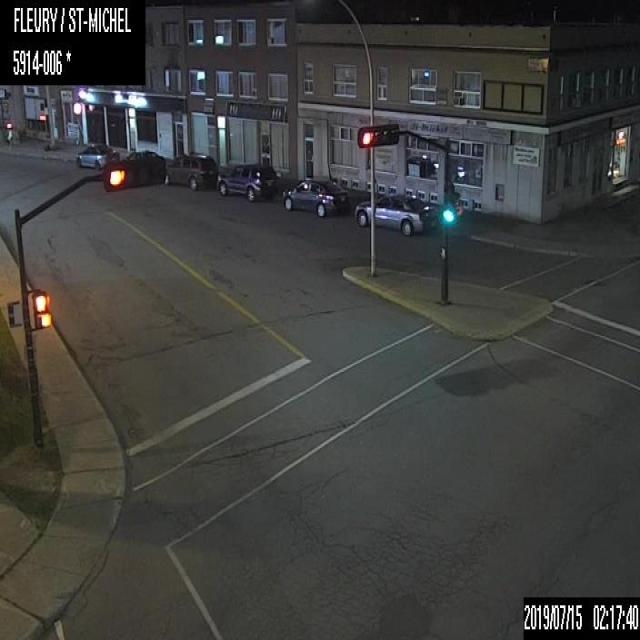vehicle: (353, 191, 438, 233), (283, 177, 348, 216), (215, 160, 275, 198), (165, 150, 218, 192), (119, 148, 164, 174), (76, 144, 119, 168)
